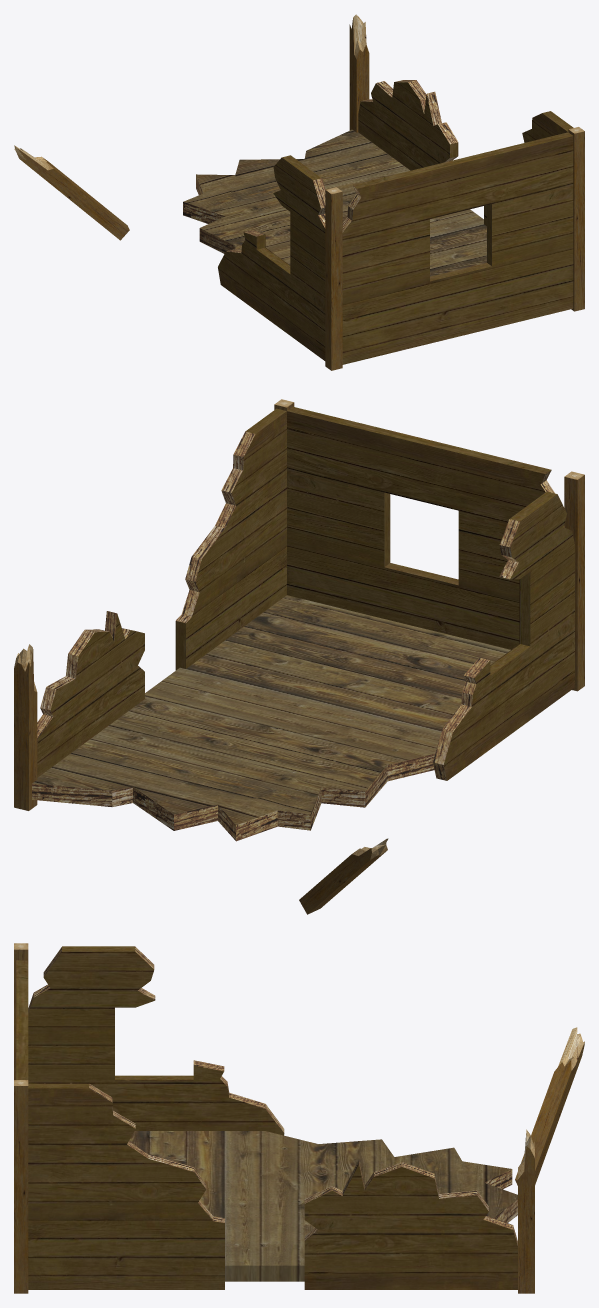
File: ruined_house.fbx
3 views of the same model, one above another, from view 1: azimuth 30°, elevation 25°; view 2: azimuth 150°, elevation 25°; view 3: azimuth 270°, elevation 25° (orthographic). The views are drawn at different scales.
Visible parts, largest first — view 1: Cube; view 2: Cube; view 3: Cube.
Part boxes in pixels (bbox=[...]): Cube: bbox=[14, 14, 584, 370]; Cube: bbox=[14, 399, 584, 914]; Cube: bbox=[14, 943, 584, 1293].
Size of the model in its own units: 2.66 by 1.6 by 3.42.
